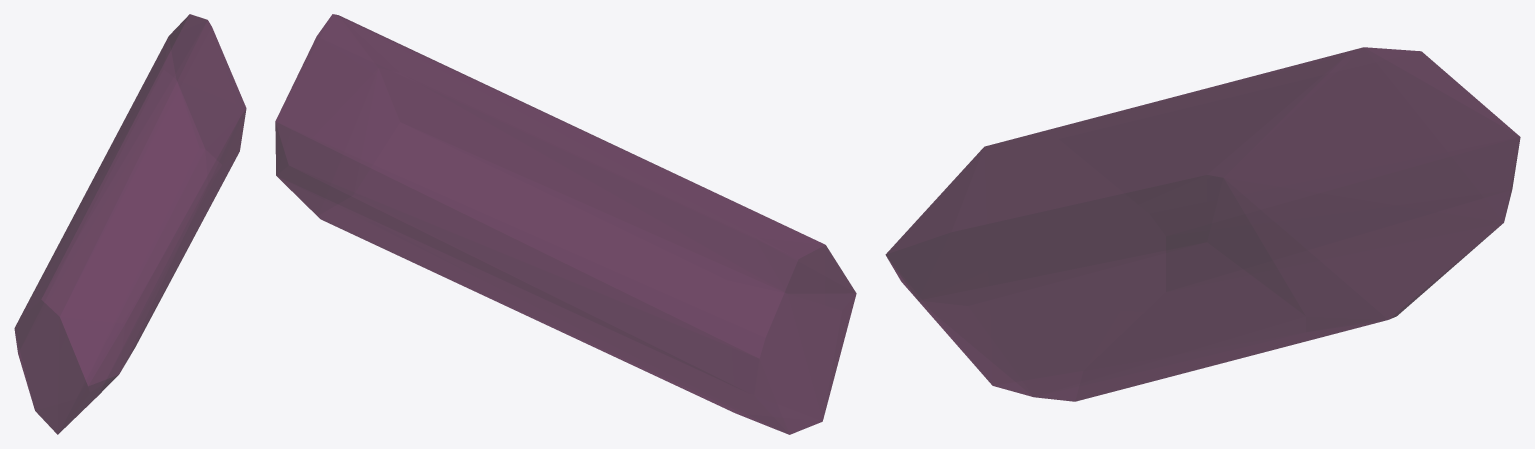
The picture shows the model from 3 angles, left to right: view 1: azimuth 30°, elevation 25°; view 2: azimuth 150°, elevation 25°; view 3: azimuth 270°, elevation 25°; orthographic projection. The views are drawn at different scales.
Visible parts, largest first — view 1: Shape_IndexedFaceSet.009_Shape_IndexedFaceSet.16460; view 2: Shape_IndexedFaceSet.009_Shape_IndexedFaceSet.16460; view 3: Shape_IndexedFaceSet.009_Shape_IndexedFaceSet.16460.
Part boxes in pixels (x1=…): Shape_IndexedFaceSet.009_Shape_IndexedFaceSet.16460: x1=14, y1=14, x2=246, y2=434; Shape_IndexedFaceSet.009_Shape_IndexedFaceSet.16460: x1=275, y1=14, x2=856, y2=434; Shape_IndexedFaceSet.009_Shape_IndexedFaceSet.16460: x1=885, y1=47, x2=1520, y2=401.
Bounding box in the file's own units: 0.1573 × 0.1756 × 0.1755.
